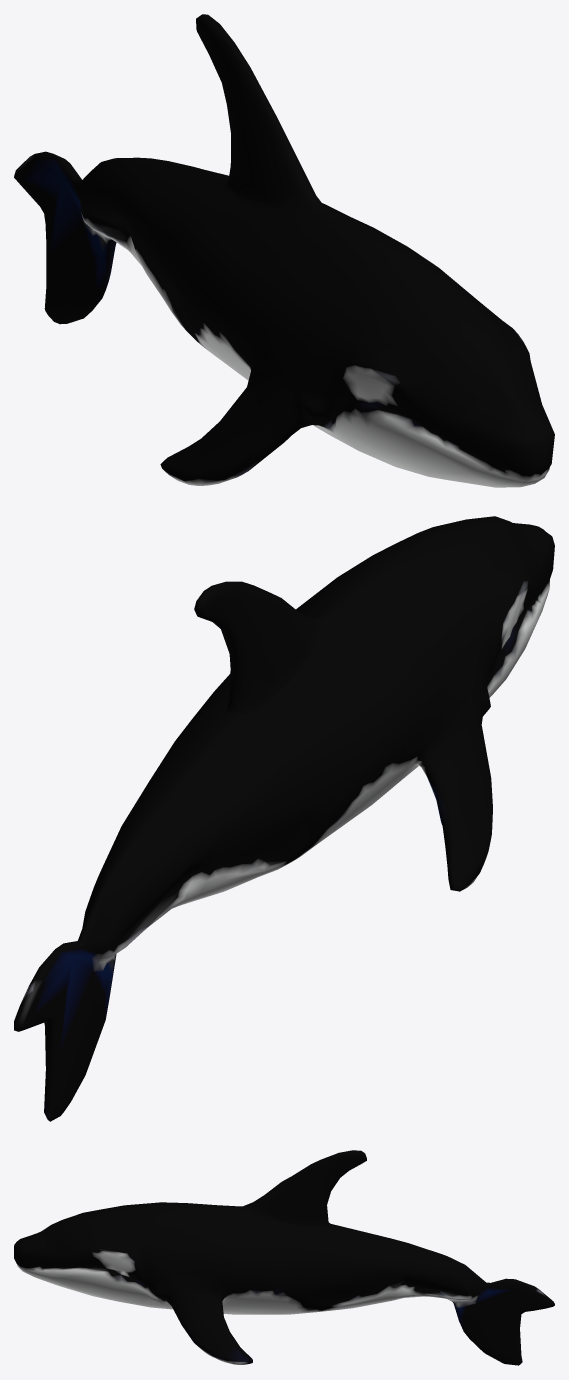
The model's file is gen3d-orca-lod0.glb.
3 renders of one model, top to bottom at view 1: azimuth 30°, elevation 25°; view 2: azimuth 150°, elevation 25°; view 3: azimuth 270°, elevation 25°, orthographic. The views are drawn at different scales.
Parts seen in each view (by area): view 1: part_0; view 2: part_0; view 3: part_0.
Part boxes in pixels (bbox=[...]): part_0: bbox=[14, 14, 554, 487]; part_0: bbox=[14, 516, 554, 1121]; part_0: bbox=[14, 1150, 554, 1365].
Size of the model in its own units: 0.7541 by 0.9962 by 2.28.
